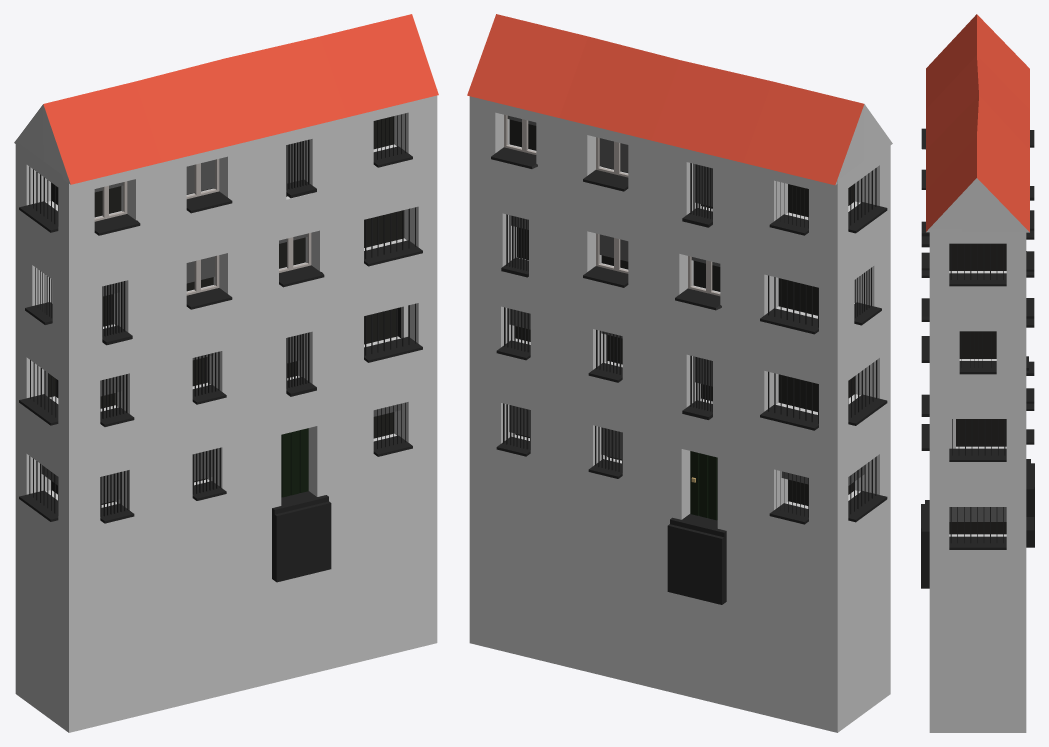
File: casa_procedural_relleno_Con sotano_3.fbx
3 views of the same model, side by side, from view 1: azimuth 30°, elevation 25°; view 2: azimuth 150°, elevation 25°; view 3: azimuth 270°, elevation 25° (orthographic). The views are drawn at different scales.
Parts seen in each view (by area): view 1: casa procedural_relleno_Con sotano_3; view 2: casa procedural_relleno_Con sotano_3; view 3: casa procedural_relleno_Con sotano_3.
Part boxes in pixels (box(x1,y1,x2,y2)): casa procedural_relleno_Con sotano_3: box(14, 14, 438, 732); casa procedural_relleno_Con sotano_3: box(467, 14, 892, 732); casa procedural_relleno_Con sotano_3: box(921, 14, 1034, 732).
Bounding box in the file's own units: 416 × 633 × 118.
